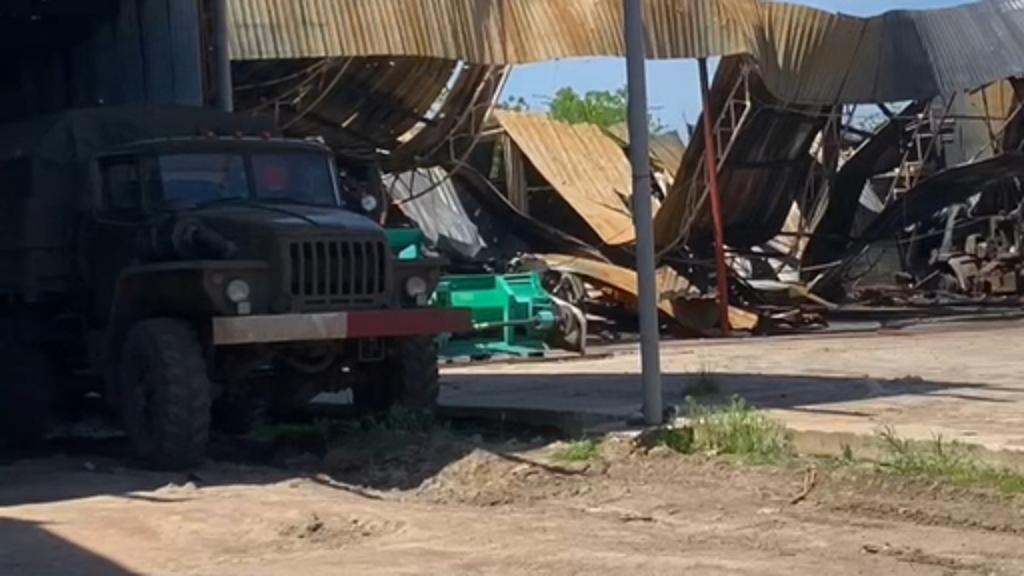TRUCK: (0, 82, 472, 470)
